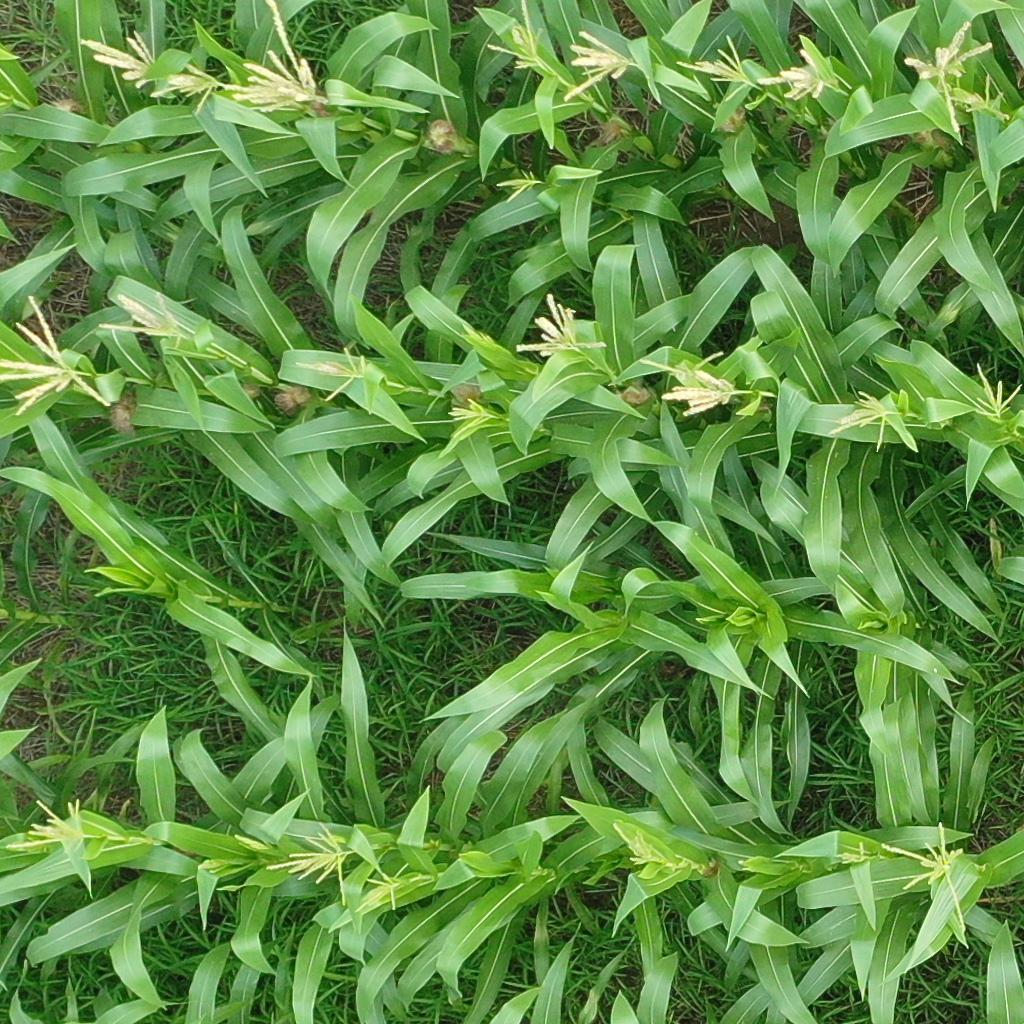Tassel: (1, 295, 113, 421), (222, 1, 322, 118), (903, 20, 992, 142), (881, 818, 973, 935), (263, 826, 355, 904), (517, 292, 608, 362), (558, 30, 643, 104), (5, 797, 92, 863), (823, 387, 905, 455), (677, 34, 753, 106), (482, 1, 553, 74), (96, 291, 189, 346), (79, 30, 159, 90), (656, 369, 747, 420), (297, 344, 371, 404), (149, 63, 222, 115), (639, 347, 729, 388), (759, 49, 829, 100), (950, 75, 1010, 125), (970, 363, 1023, 418), (352, 863, 404, 917), (608, 818, 660, 869), (441, 396, 495, 443), (496, 173, 541, 204), (831, 836, 870, 869), (230, 831, 269, 856), (458, 323, 495, 345), (197, 859, 227, 878)
